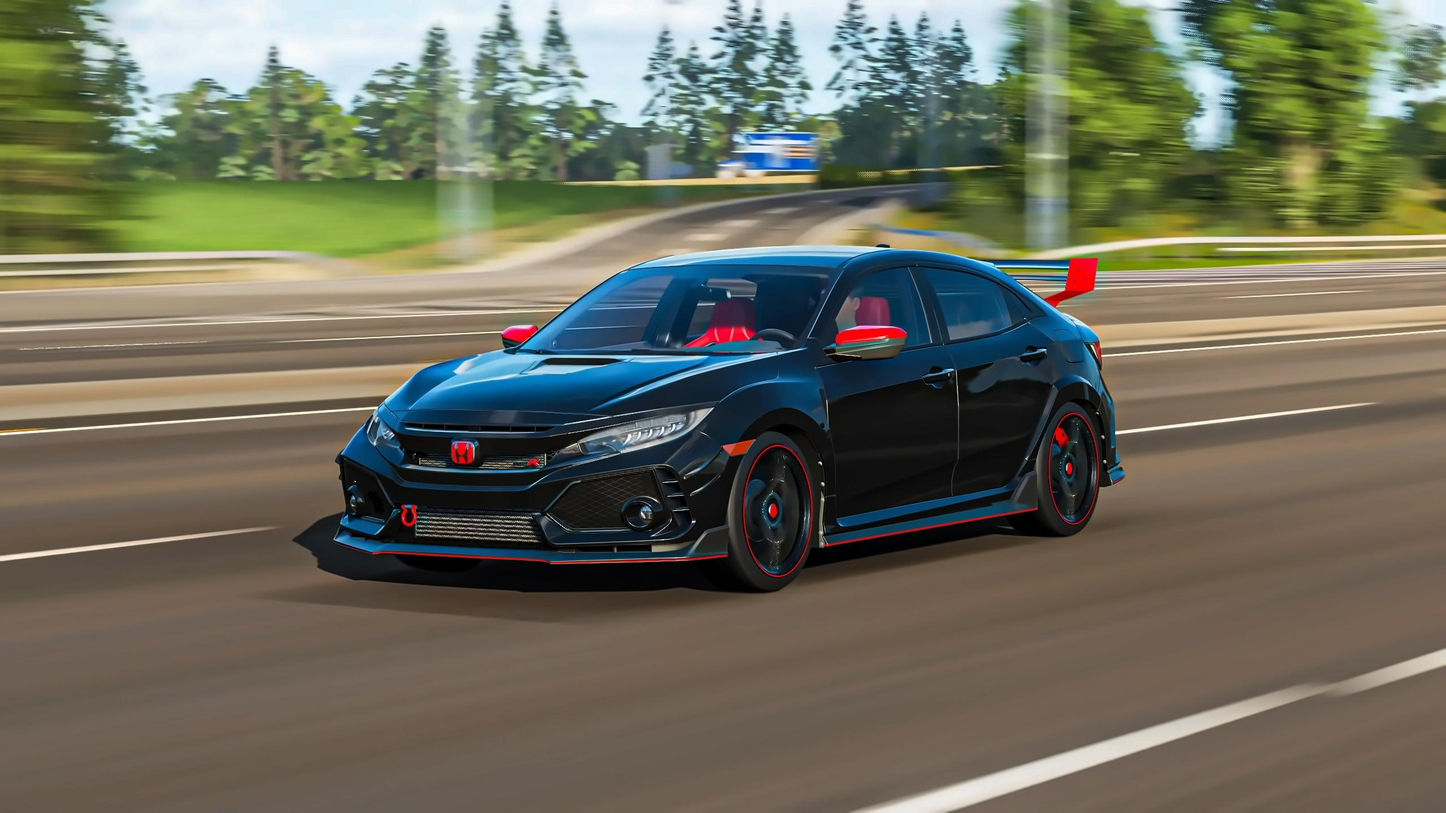Car hood: (384, 343, 784, 437)
Fender - -F-L-: (702, 348, 841, 554)
Fender - -R-L-: (1005, 306, 1105, 437)
Front bumper: (335, 430, 740, 569)
Headlight - -L-: (542, 402, 715, 469)
Headlight - -R-: (362, 408, 399, 451)
Passenger-s door - -F-L-: (814, 243, 966, 559)
Passenger-s door - -R-L-: (905, 241, 1057, 529)
Rear bumper: (1092, 386, 1125, 490)
Side bumper - -L-: (815, 472, 1041, 574)
Side mirror - -L-: (822, 323, 908, 365)
Side mirror - -R-: (498, 319, 538, 355)
